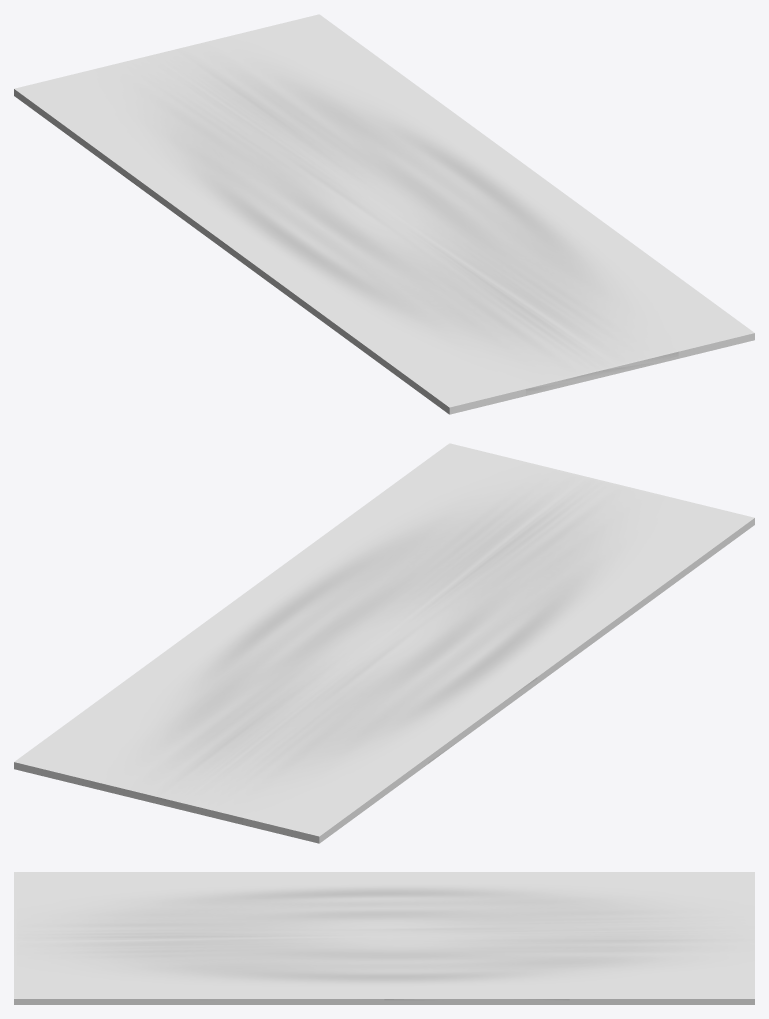
File: windowthintall_wtf.obj
3 views of the same model, one above another, from view 1: azimuth 30°, elevation 25°; view 2: azimuth 150°, elevation 25°; view 3: azimuth 270°, elevation 25° (orthographic). The views are drawn at different scales.
Visible parts, largest first — view 1: group1; view 2: group1; view 3: group1.
Boxes of the visible parts, x1=… form: group1: x1=14, y1=14, x2=754, y2=414; group1: x1=14, y1=443, x2=754, y2=843; group1: x1=14, y1=872, x2=754, y2=1004.
Size of the model in its own units: 267 by 5.98 by 660.
